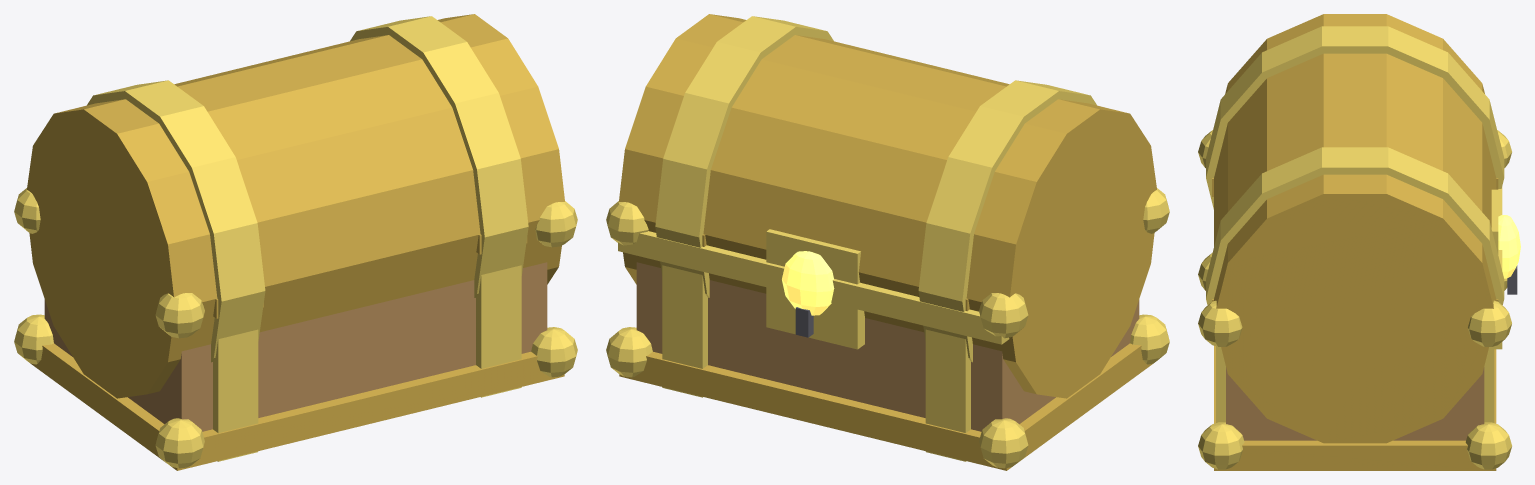
File: GOLD.glb
3 views of the same model, side by side, from view 1: azimuth 30°, elevation 25°; view 2: azimuth 150°, elevation 25°; view 3: azimuth 270°, elevation 25° (orthographic). The views are drawn at different scales.
Parts seen in each view (by area): view 1: Lid, Body; view 2: Lid, Body; view 3: Lid, Body.
Part boxes in pixels (x1,y1,x2,y2): Lid: (27,14,564,398); Body: (14,188,577,470); Lid: (619,14,1156,398); Body: (606,188,1169,470); Lid: (1206,14,1520,443); Body: (1198,130,1511,470).
Bounding box in the file's own units: 2.27 × 1.59 × 1.62.
